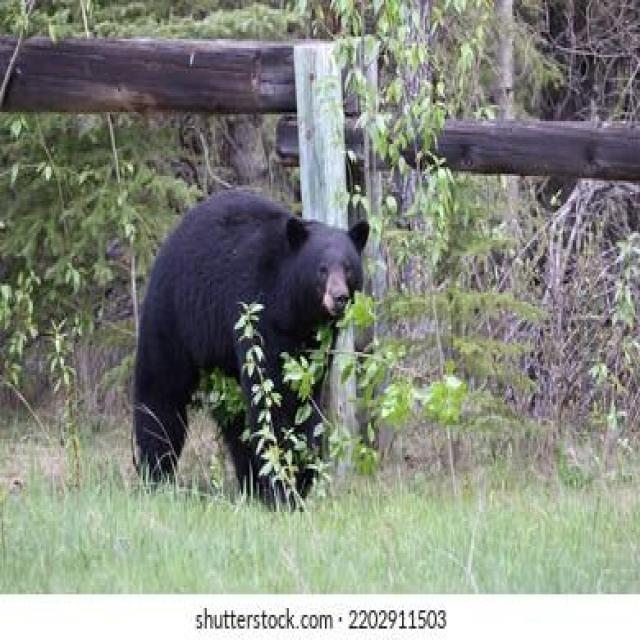Bear: (131, 190, 369, 510)
